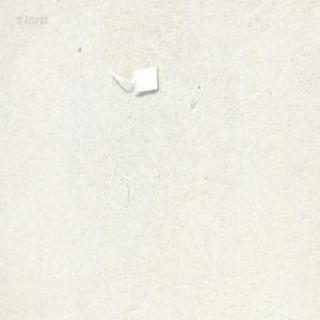LuggageTagtrack_idkeyframe: (105, 62, 160, 96)
